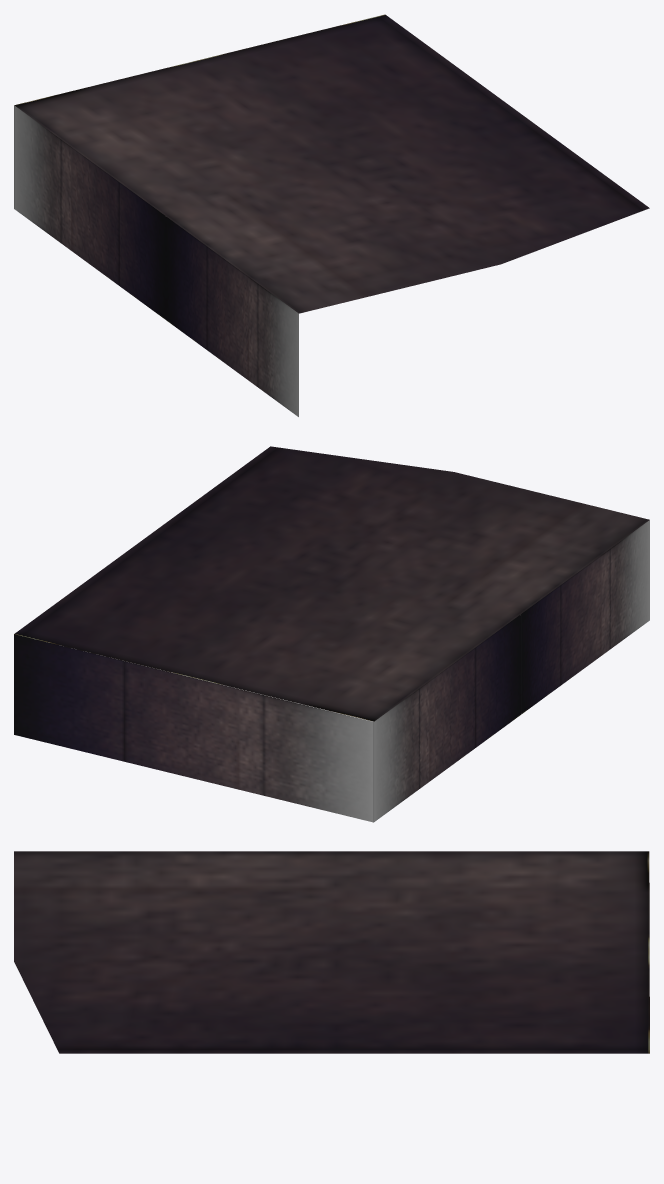
3 views of the same model, one above another, from view 1: azimuth 30°, elevation 25°; view 2: azimuth 150°, elevation 25°; view 3: azimuth 270°, elevation 25° (orthographic). The views are drawn at different scales.
Visible parts, largest first — view 1: Box11; view 2: Box11; view 3: Box11.
Part boxes in pixels (x1,y1,x2,y2): Box11: (14,14,649,416); Box11: (14,446,649,822); Box11: (14,851,649,1053).
Size of the model in its own units: 3179 by 850 by 4227.
Materials: 1 (1 with a texture image).
